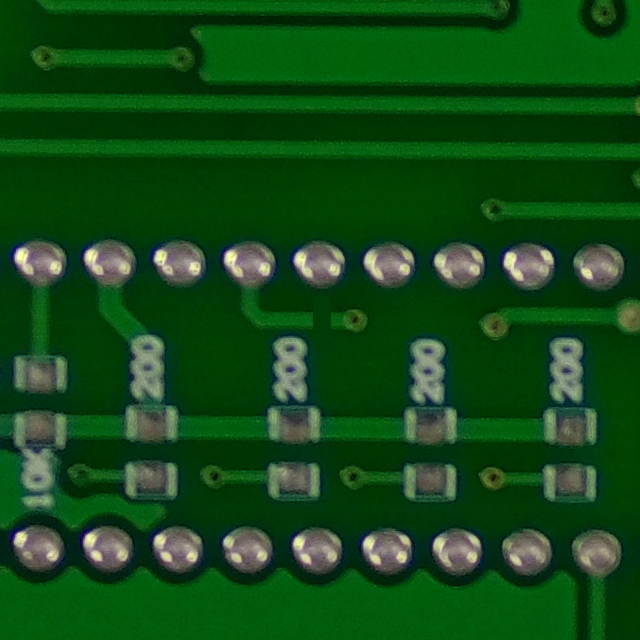open_circuit: (299, 298, 342, 343)
